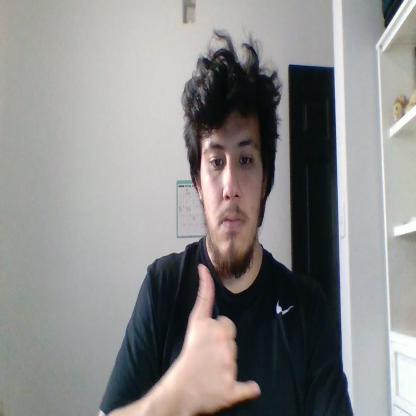Y: (185, 263, 261, 413)
